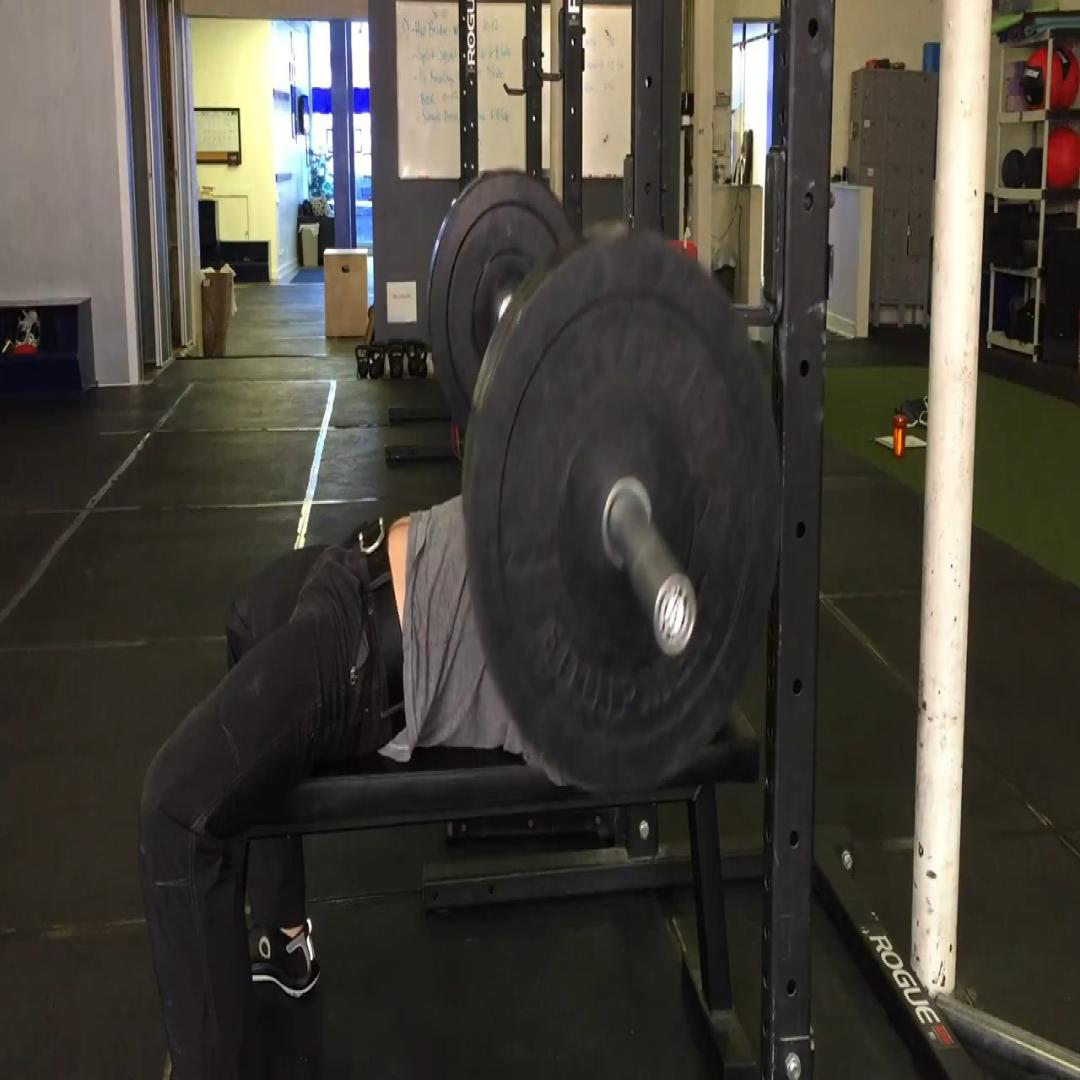Bar: (653, 575, 698, 657)
Barbell: (466, 234, 780, 794)
